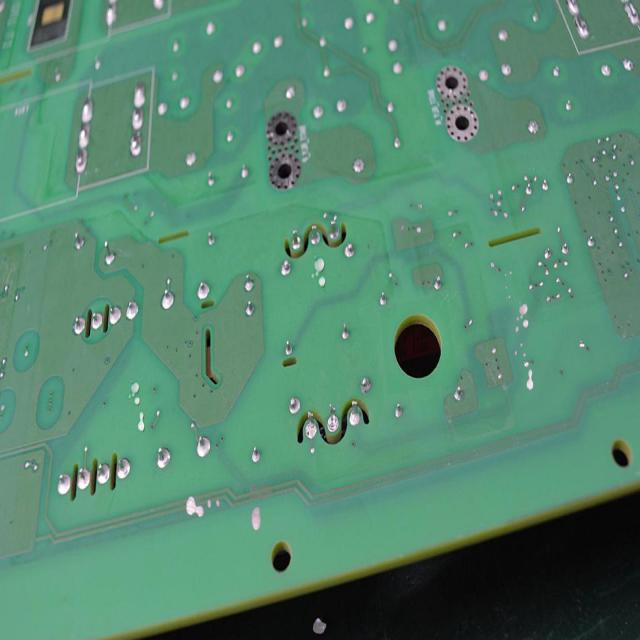spillover: (125, 376, 146, 435), (182, 492, 223, 518), (308, 254, 334, 290), (520, 357, 540, 392)
